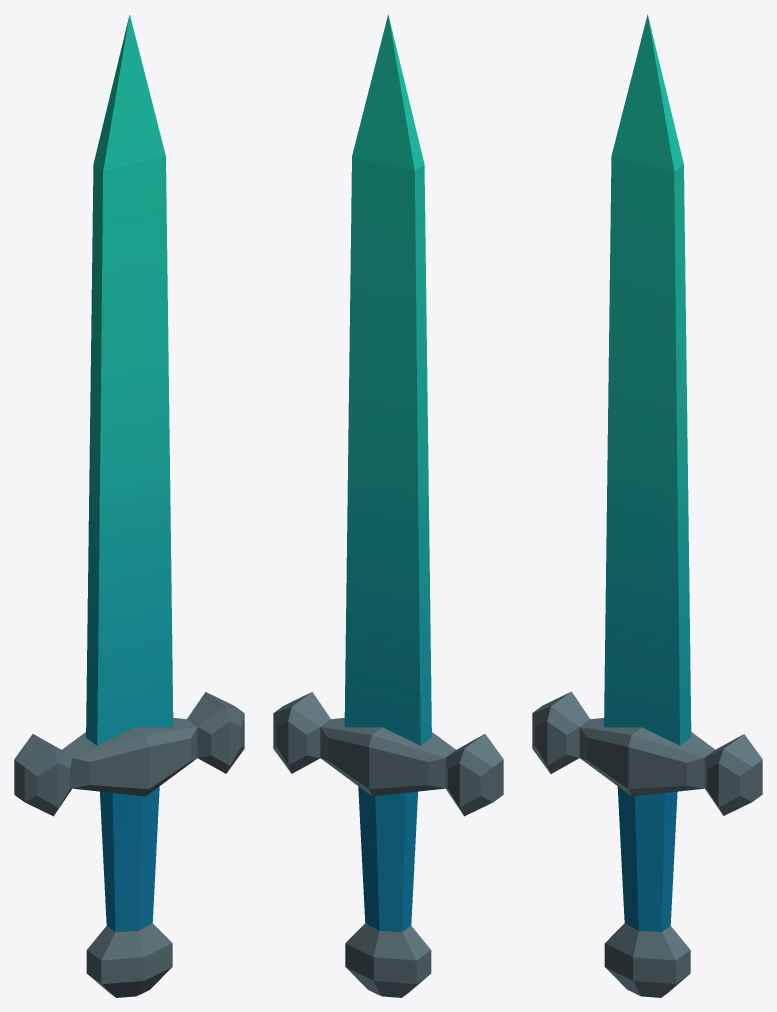
File: Candy Sword_Model.FBX
3 renders of one model, left to right at view 1: azimuth 30°, elevation 25°; view 2: azimuth 150°, elevation 25°; view 3: azimuth 330°, elevation 25°, orthographic.
Visible parts, largest first — view 1: Steel Sword; view 2: Steel Sword; view 3: Steel Sword.
Boxes of the visible parts, x1=… form: Steel Sword: x1=14, y1=15, x2=244, y2=997; Steel Sword: x1=273, y1=15, x2=503, y2=997; Steel Sword: x1=532, y1=14, x2=762, y2=997.
Size of the model in its own units: 33.32 by 141 by 10.17.
1 material, 1 textured.
